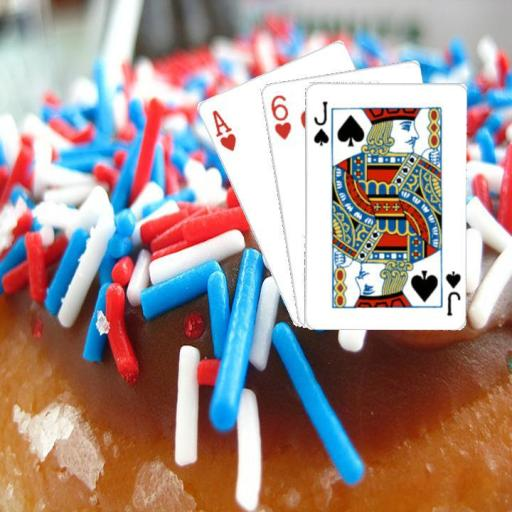6H: (267, 91, 292, 141)
AH: (209, 107, 238, 153)
JS: (310, 98, 330, 147), (443, 268, 462, 317)
